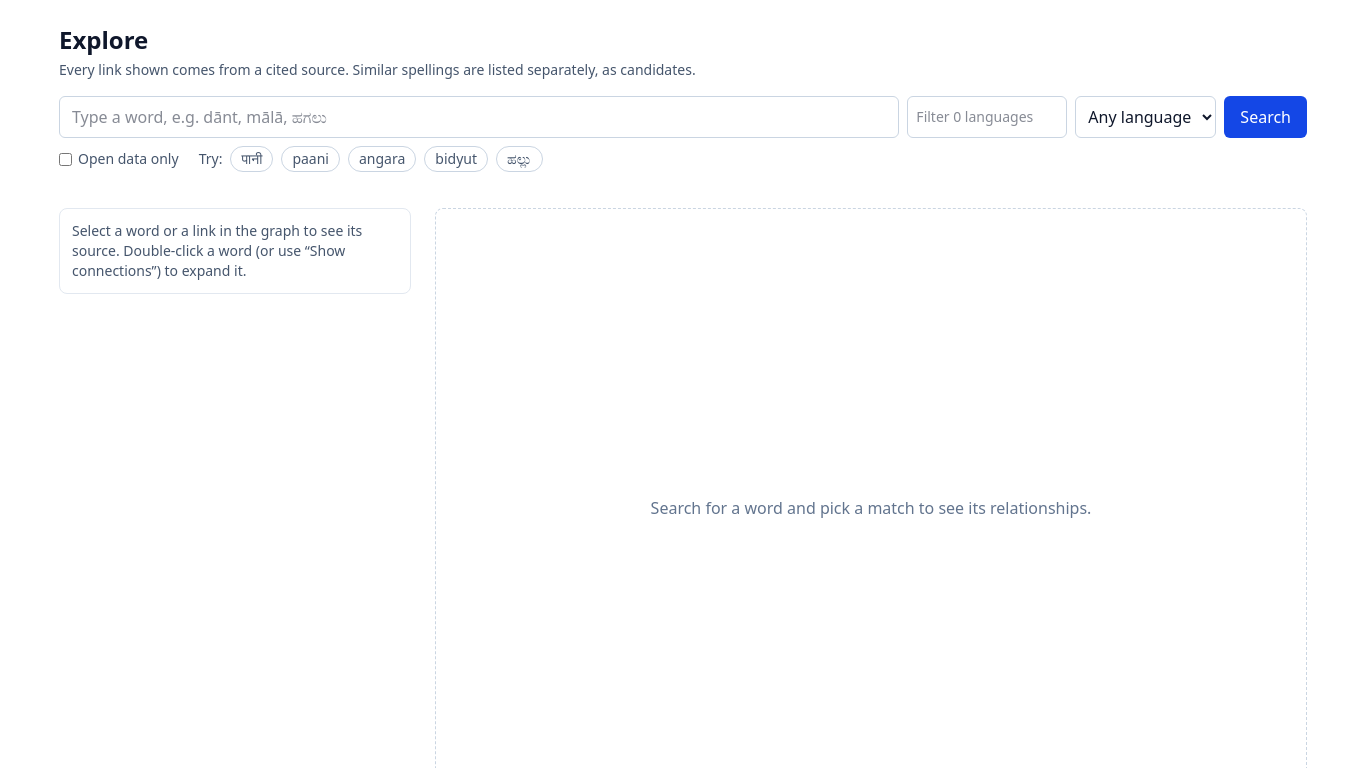
it: ExplorePage › shows an error when search fails
Type "x" into the field labelled "word". click: point(479, 117)
box: [59, 96, 899, 138]
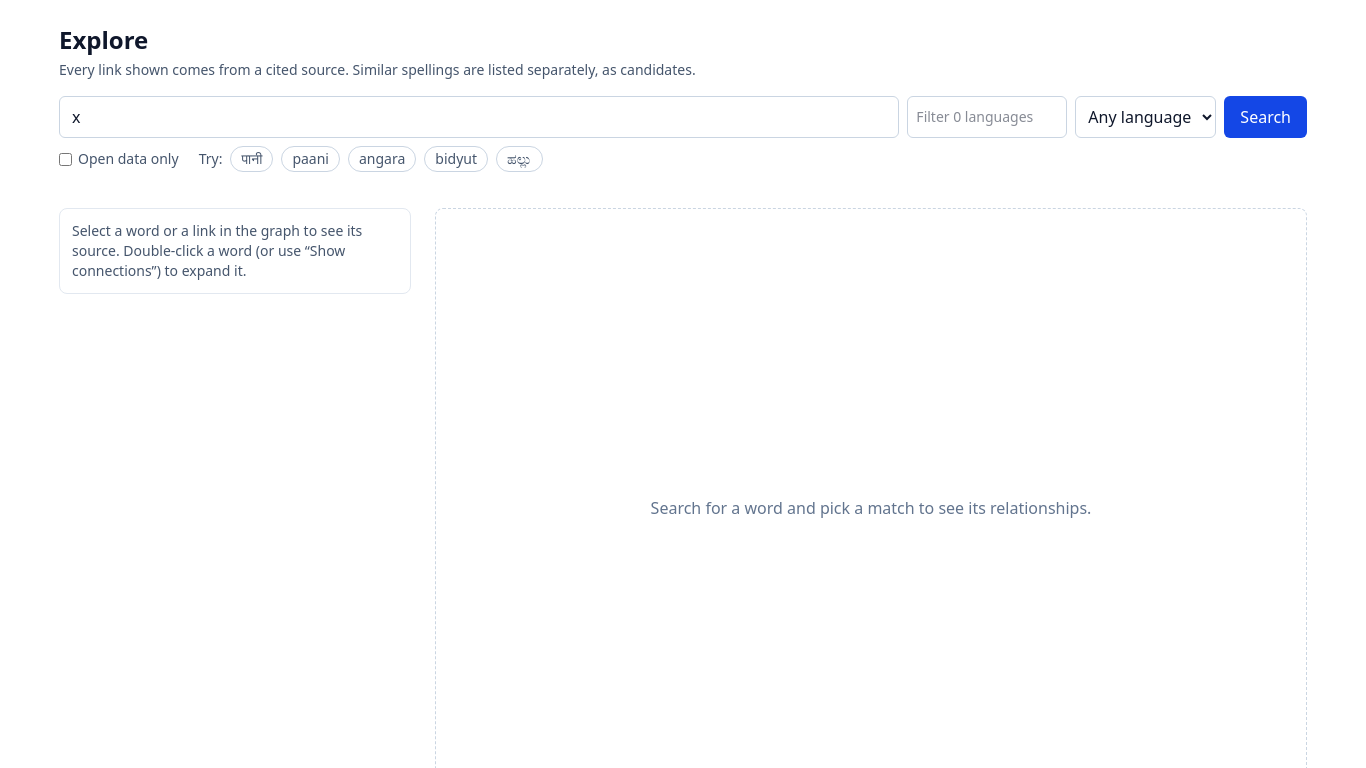
Click the button "Search". click: point(1266, 117)
box: [1224, 96, 1307, 138]
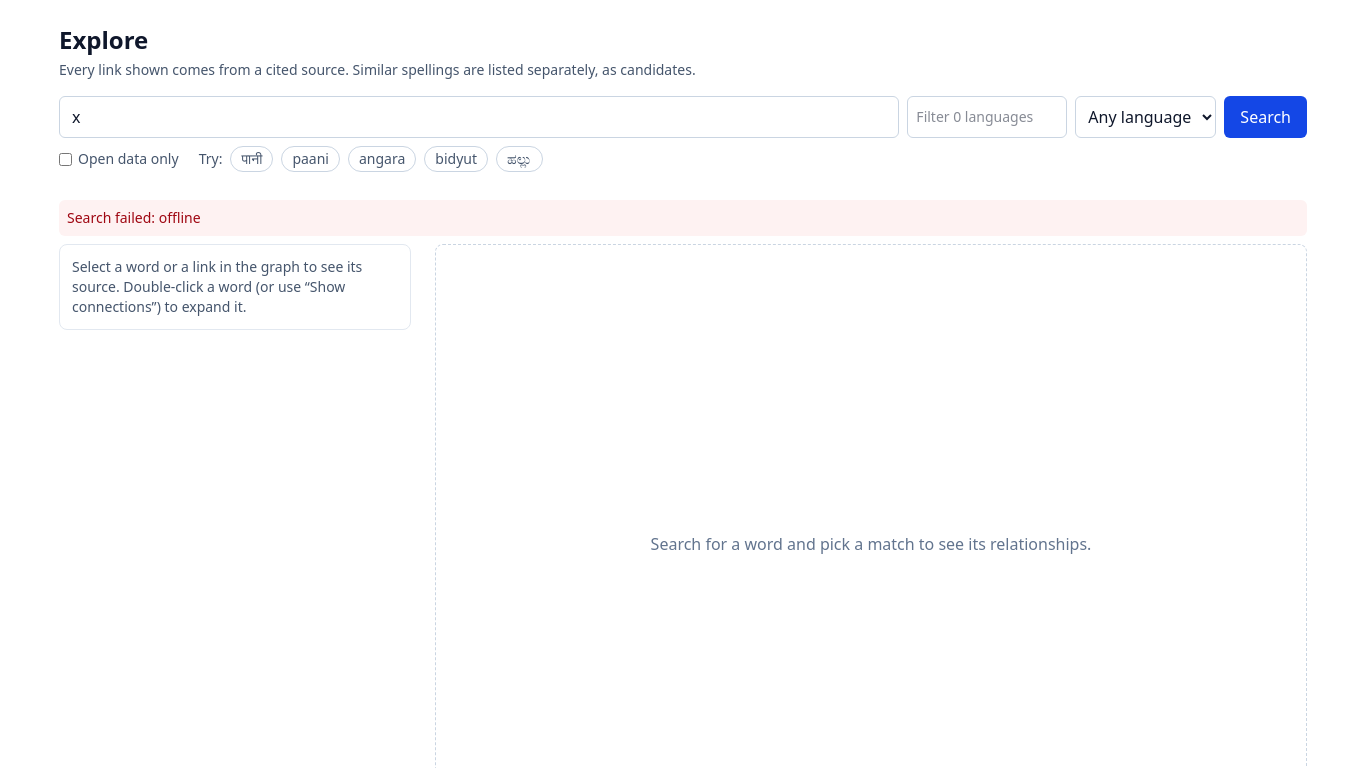
Result: the text "Search failed: offline" is shown at [59, 200, 1307, 236]
